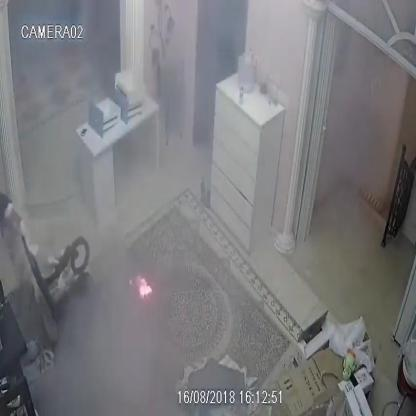fire: (130, 276, 152, 298)
